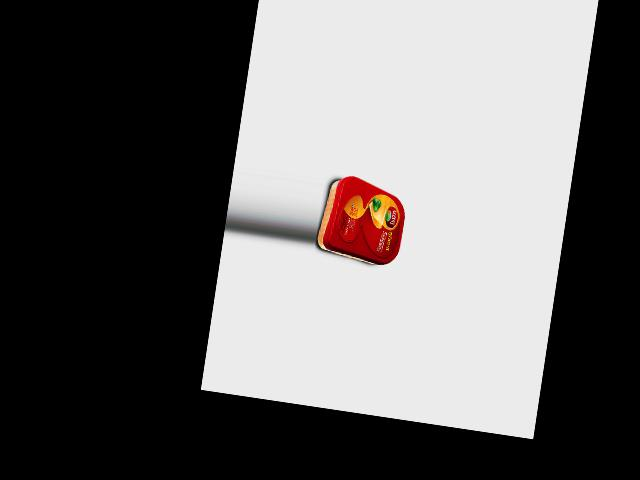cheese: (314, 172, 409, 267)
